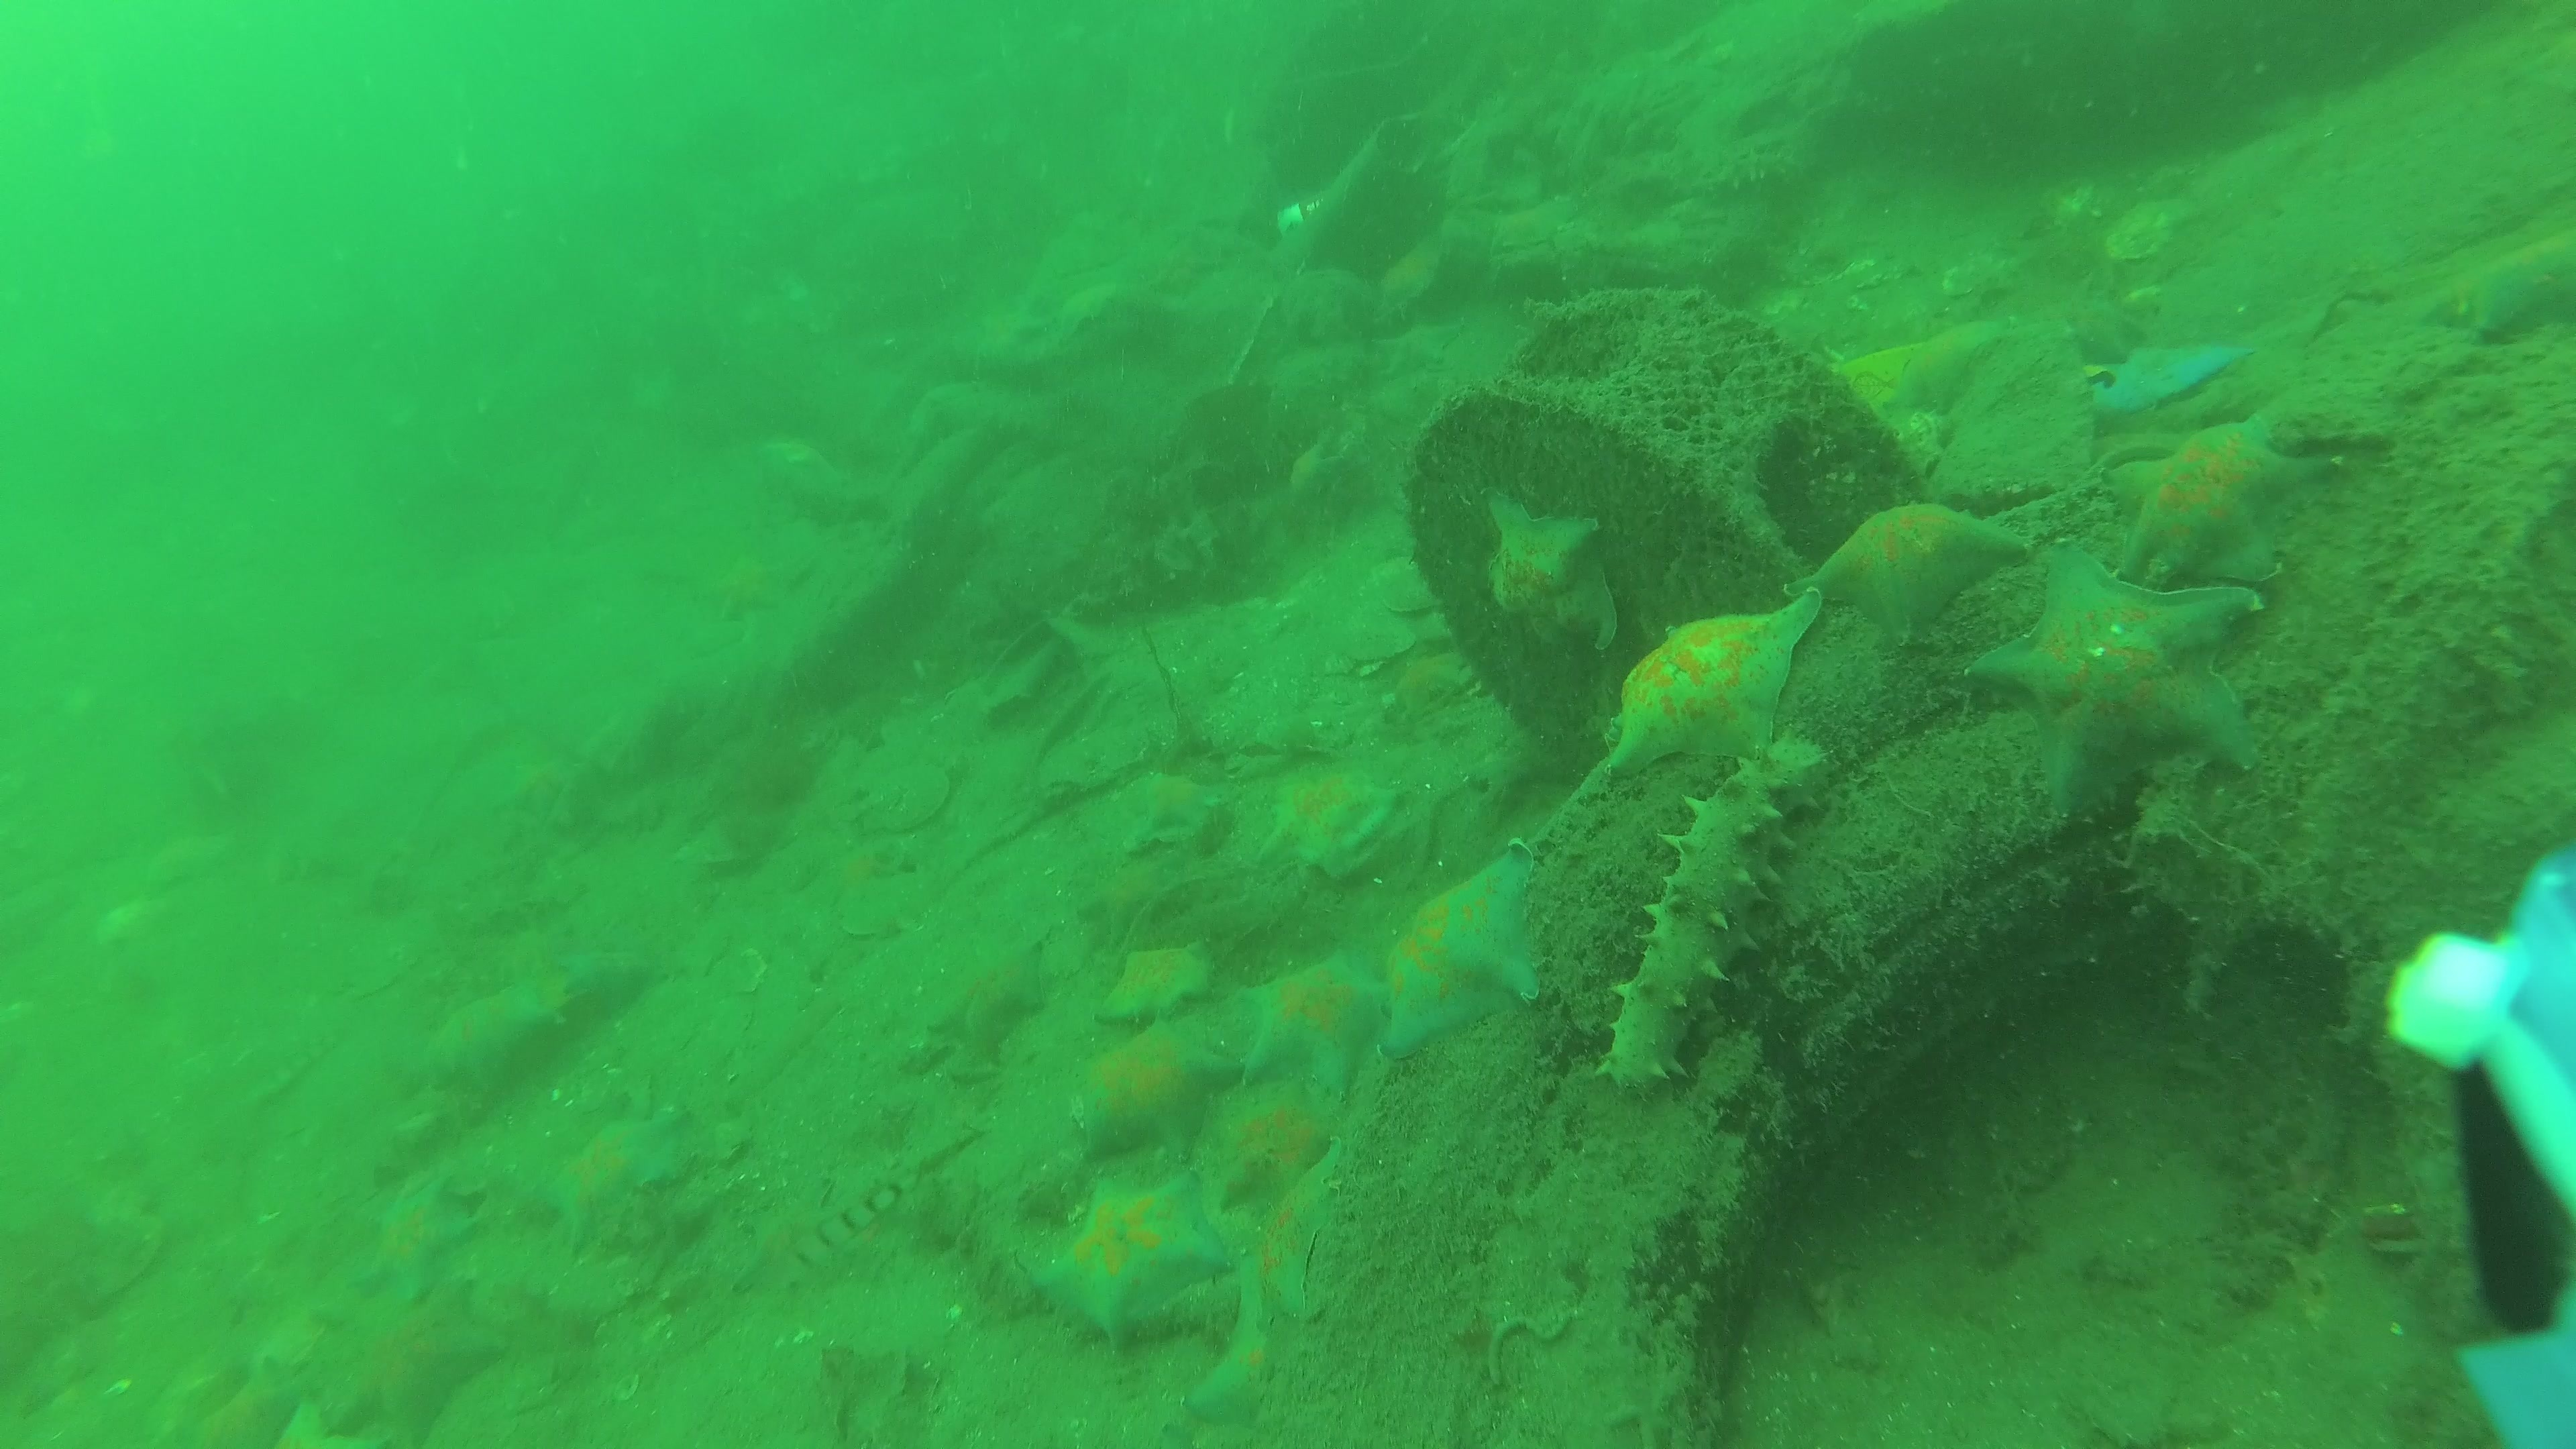holothurian: (1589, 732, 1828, 1093)
scallop: (872, 752, 947, 839), (2102, 200, 2199, 262), (1941, 255, 2024, 299)
starfish: (1967, 556, 2266, 828), (1601, 586, 1821, 780), (2105, 418, 2348, 575), (1375, 844, 1543, 1063), (375, 955, 644, 1088), (1796, 499, 2036, 646), (1035, 1178, 1237, 1350), (322, 1288, 501, 1444), (1065, 1024, 1233, 1175), (1235, 948, 1385, 1106), (533, 1104, 694, 1251), (1479, 488, 1621, 651), (1833, 313, 2006, 430), (2419, 237, 2576, 347), (644, 540, 819, 623), (1269, 1143, 1345, 1315), (1182, 1277, 1276, 1415), (1265, 770, 1394, 869), (366, 1185, 472, 1302), (1115, 766, 1224, 858), (1104, 938, 1208, 1033), (1378, 646, 1484, 732)
